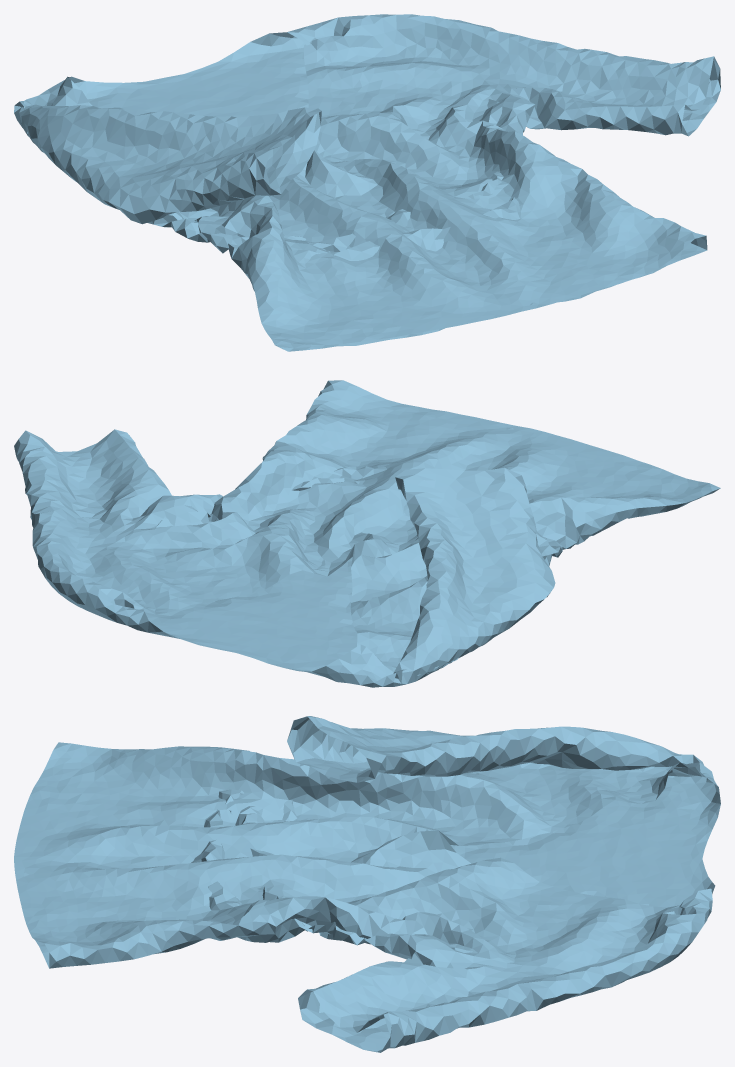
File: frame_17.glb
The picture shows the model from 3 angles, top to bottom: view 1: azimuth 30°, elevation 25°; view 2: azimuth 150°, elevation 25°; view 3: azimuth 270°, elevation 25°; orthographic projection. The views are drawn at different scales.
Parts seen in each view (by area): view 1: frame_17.obj; view 2: frame_17.obj; view 3: frame_17.obj.
Part boxes in pixels (box(x1,y1,x2,y2)): frame_17.obj: box(14, 14, 720, 351); frame_17.obj: box(14, 380, 720, 687); frame_17.obj: box(14, 716, 720, 1052).
Bounding box in the file's own units: 1.54 × 0.2303 × 1.49.
